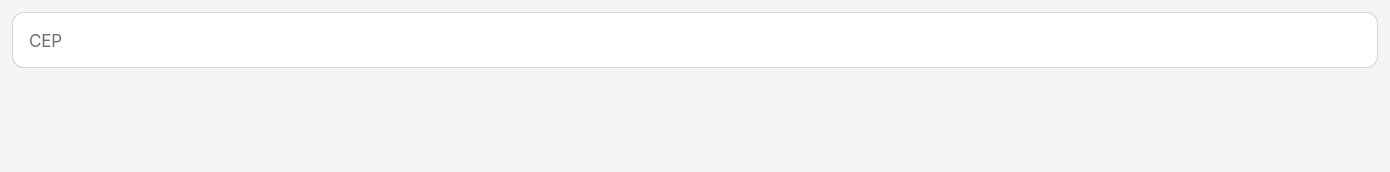
Test case: CepField — endereço pelo CEP (US-14) › mostra a mensagem da API quando o CEP não existe
In the field labelled "CEP": point(695, 40) [12,12,1378,68], type "00000000"
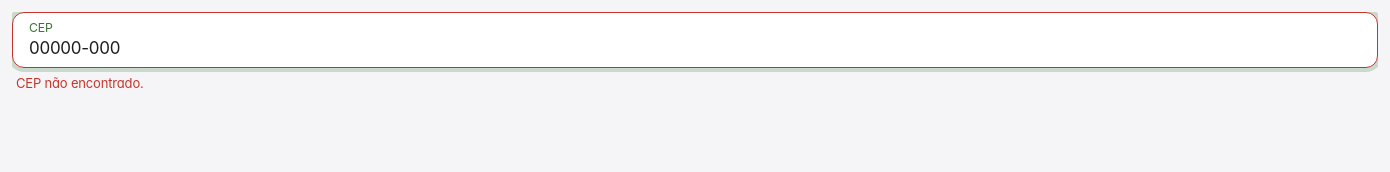
Now the text "CEP não encontrado." is shown, box [16,75,144,91]
